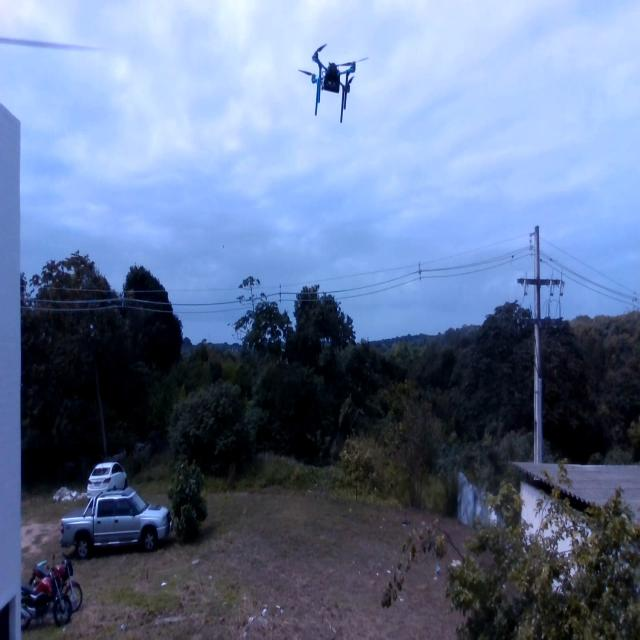-uav-: (290, 31, 376, 132)
